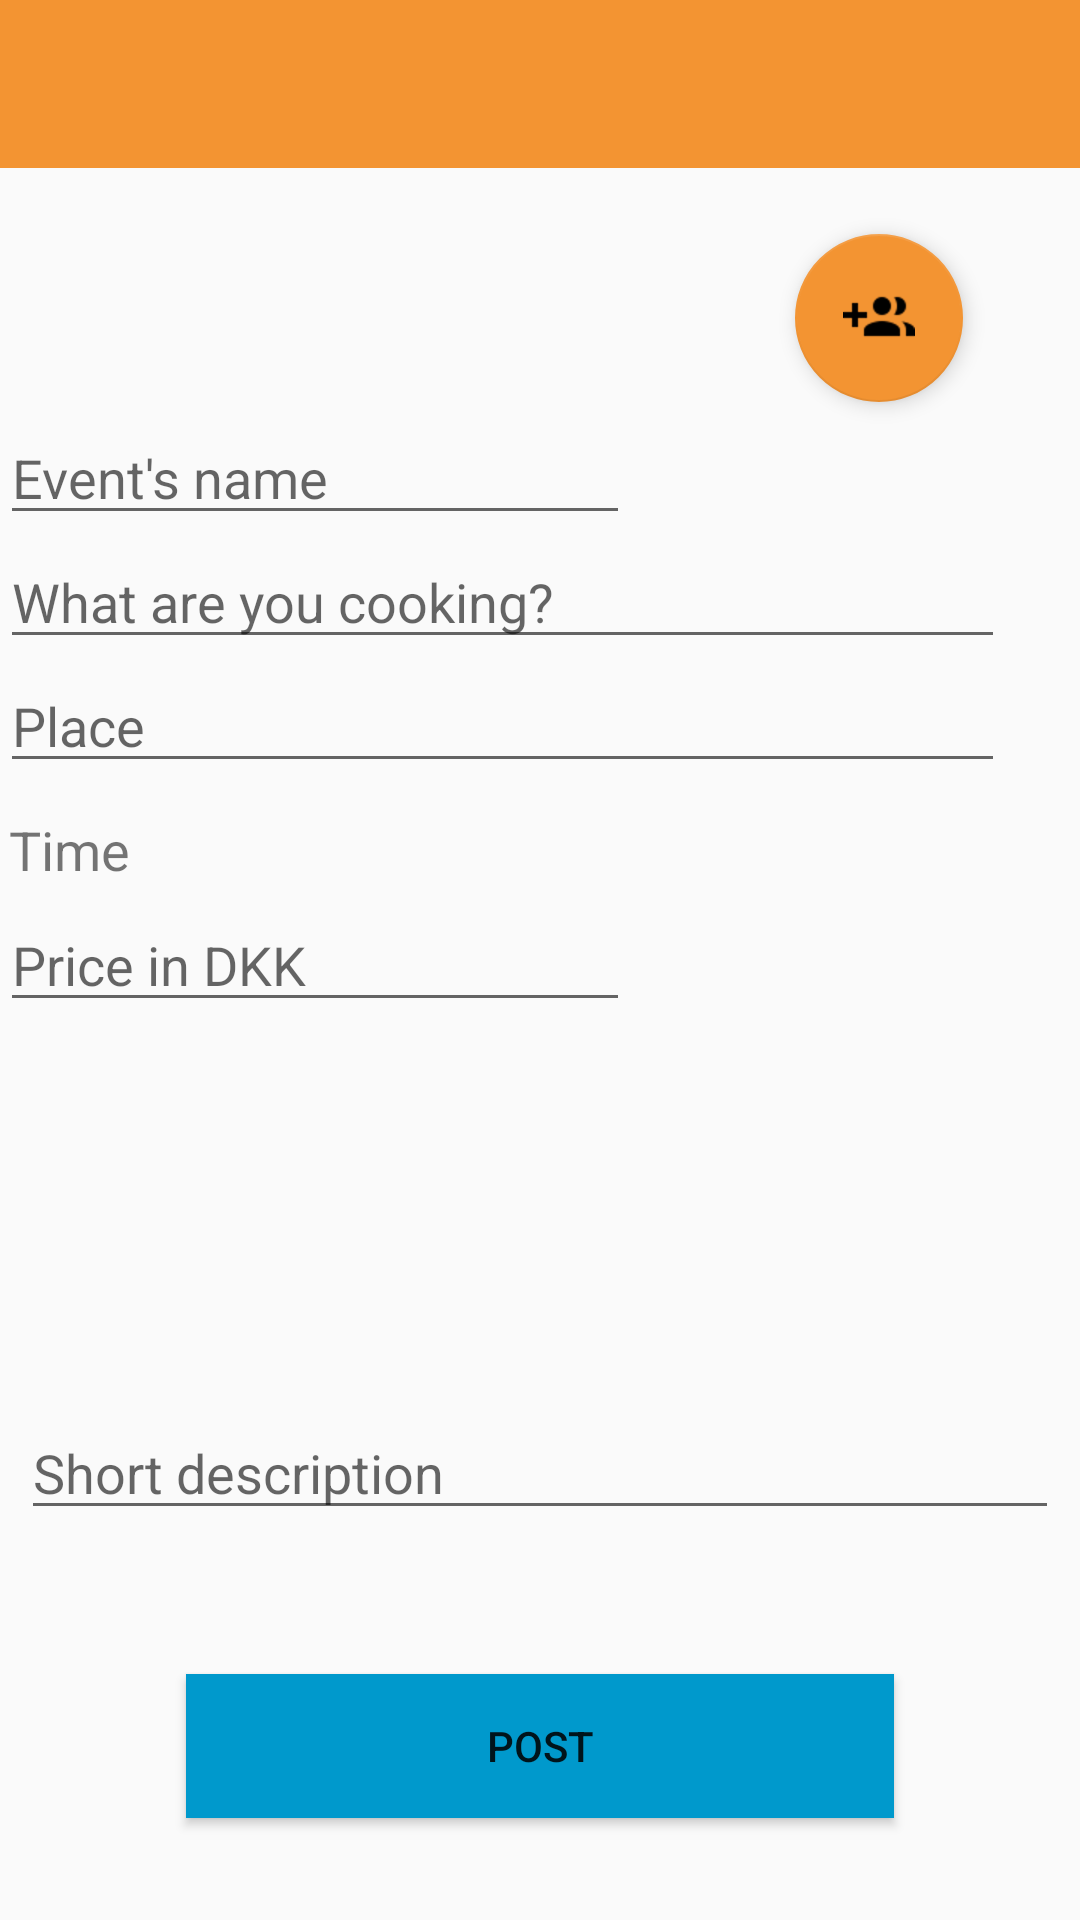

Icon bounding boxes for this 1080w x 1920h phone screenshot, format region(x1, y1, x2, y2):
account multiple plus: region(795, 234, 963, 402)
